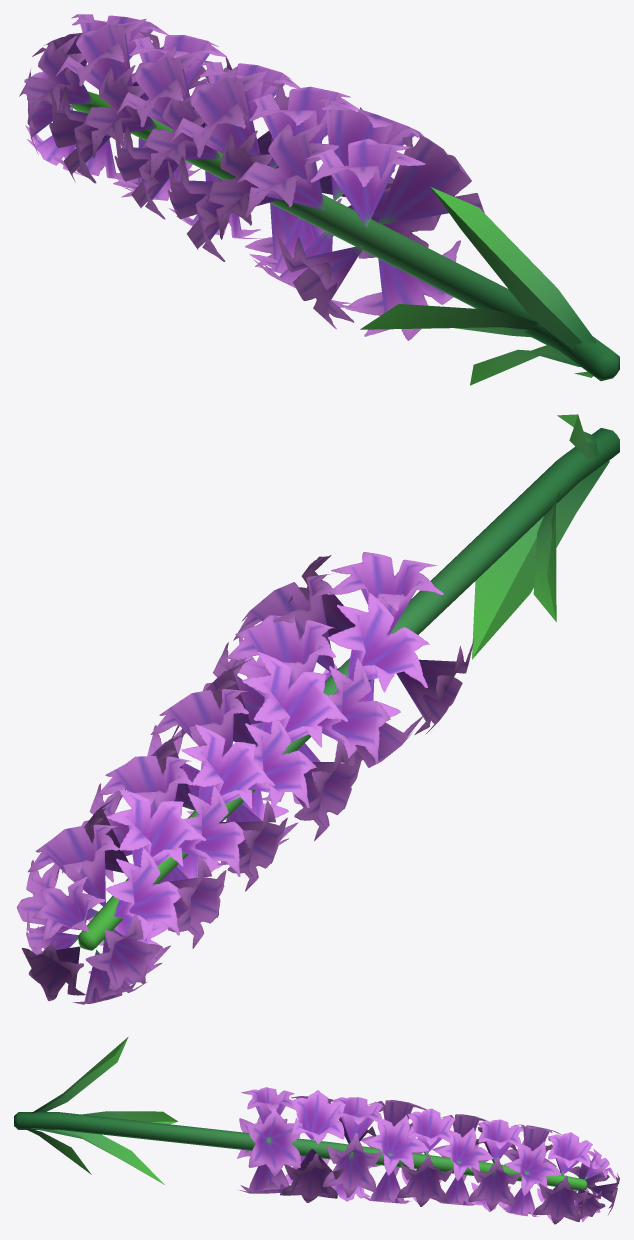
Rendered from SM_Hyacinth_Lilac_Big.fbx.
The picture shows the model from 3 angles, top to bottom: view 1: azimuth 30°, elevation 25°; view 2: azimuth 150°, elevation 25°; view 3: azimuth 270°, elevation 25°; orthographic projection. The views are drawn at different scales.
Visible parts, largest first — view 1: Hyacinth_Lilac_Big; view 2: Hyacinth_Lilac_Big; view 3: Hyacinth_Lilac_Big.
Boxes of the visible parts, <box> form: Hyacinth_Lilac_Big: <box>19,14,619,385</box>; Hyacinth_Lilac_Big: <box>16,414,619,1004</box>; Hyacinth_Lilac_Big: <box>14,1037,619,1224</box>.
Size of the model in its own units: 33.29 by 49.9 by 166.
